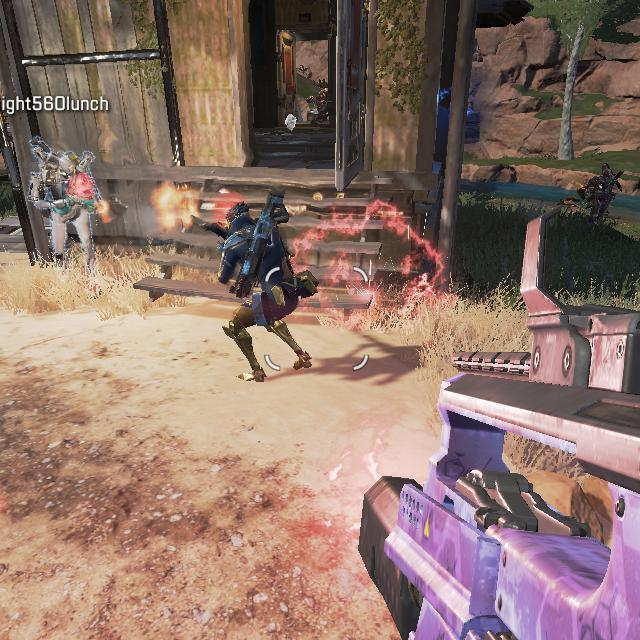avatar: (215, 200, 321, 384), (27, 145, 98, 259)
